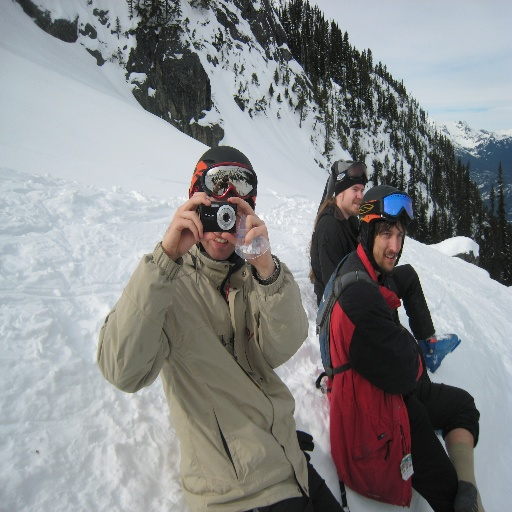hand: (161, 189, 213, 262), (234, 200, 273, 269)
